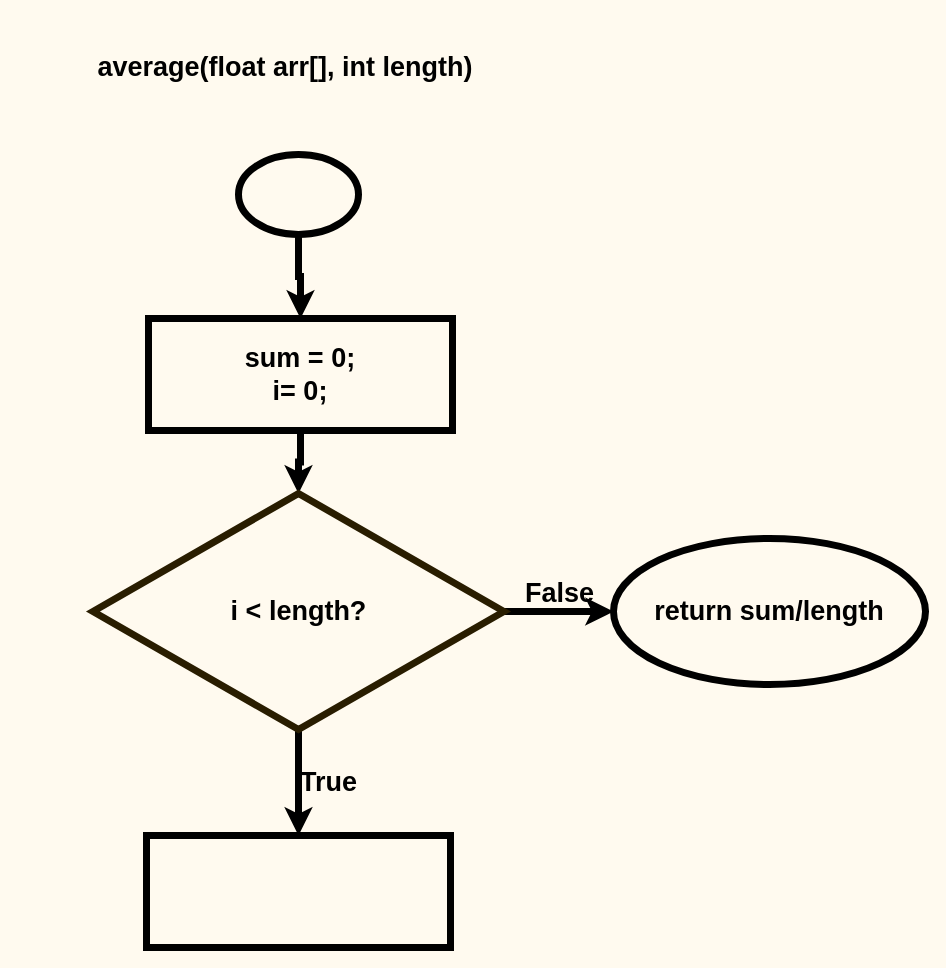
Some shapes in this 946 by 968 pixel diagram are drawn without their labels. The centre of each missing label's shape, as x and y in pixels:
Start: the point at 298,194
sum += arr[i]; i++;: the point at 298,891
